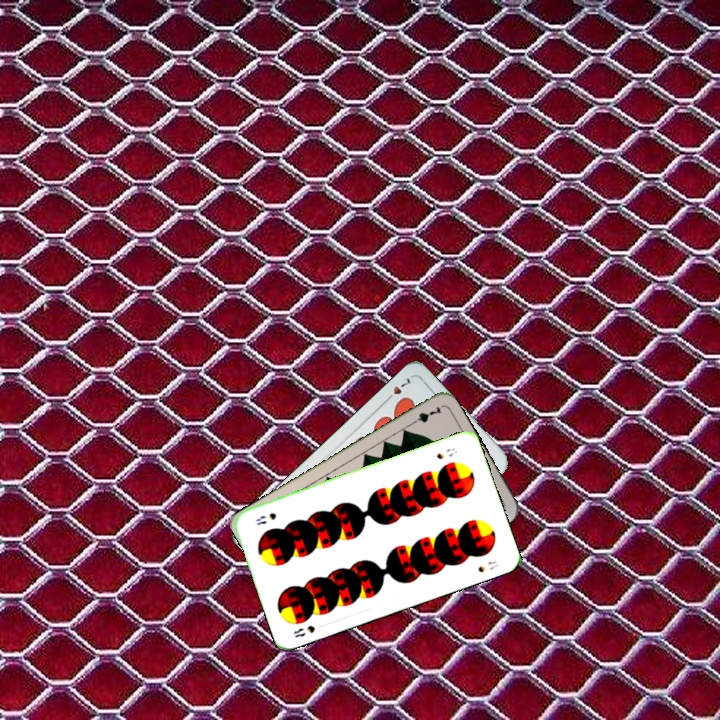G7: (405, 402, 445, 428)
H7: (381, 373, 413, 404)
S8: (289, 621, 318, 640), (432, 444, 460, 462)
